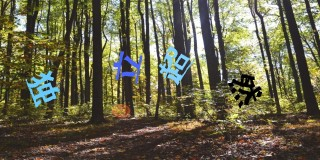然: (228, 73, 262, 108)
独: (24, 69, 59, 106)
立: (113, 50, 143, 84)
超: (159, 46, 194, 86)
